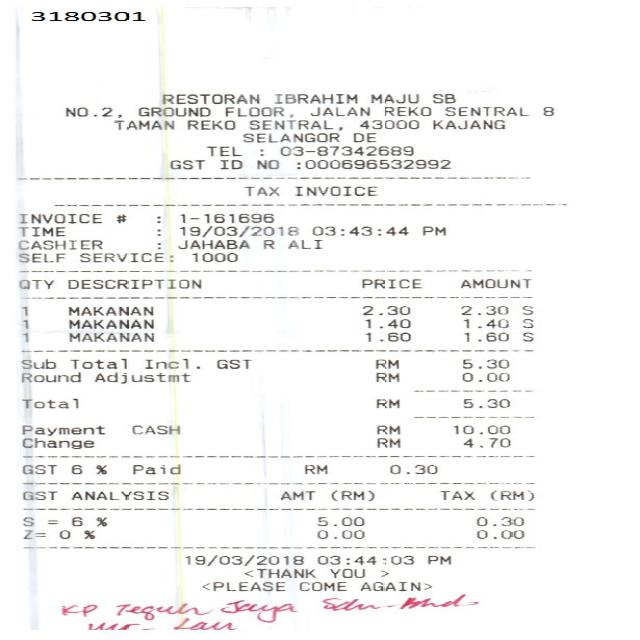text: (178, 224, 297, 237), (296, 159, 448, 169), (65, 278, 198, 289), (183, 554, 302, 566), (278, 146, 412, 155), (159, 93, 257, 104), (29, 11, 144, 20), (178, 212, 272, 223), (94, 372, 188, 383), (293, 185, 378, 197), (68, 490, 166, 500), (78, 252, 172, 262), (248, 120, 340, 130), (22, 424, 103, 435), (315, 555, 412, 564), (311, 226, 407, 235), (242, 133, 337, 142), (21, 437, 92, 449), (67, 305, 152, 315), (443, 106, 527, 116), (17, 239, 101, 249), (68, 319, 152, 329), (18, 213, 100, 223), (23, 516, 105, 526), (201, 581, 283, 591), (462, 331, 533, 342), (358, 580, 427, 591), (68, 332, 152, 341), (223, 106, 291, 117), (273, 94, 356, 103), (175, 239, 248, 249), (459, 305, 531, 315), (459, 278, 530, 288), (462, 318, 532, 328), (62, 106, 120, 118), (136, 107, 208, 116), (430, 120, 502, 129), (242, 568, 314, 577), (112, 120, 172, 130), (309, 106, 368, 116), (20, 372, 79, 382), (452, 424, 509, 434), (69, 358, 125, 368), (142, 358, 198, 368), (20, 398, 76, 408), (130, 463, 179, 474), (360, 279, 419, 288), (461, 397, 508, 408), (298, 580, 344, 591), (330, 489, 372, 501), (129, 424, 178, 434), (382, 106, 430, 116), (16, 226, 64, 236), (16, 252, 64, 262), (358, 120, 417, 128), (361, 305, 408, 315), (461, 372, 508, 382), (363, 318, 409, 328), (461, 358, 507, 368), (387, 464, 436, 473), (370, 94, 418, 103), (185, 120, 233, 129), (474, 516, 522, 525), (474, 529, 522, 538), (489, 490, 532, 500), (190, 252, 237, 261), (462, 438, 509, 447), (315, 516, 362, 525), (315, 529, 362, 538), (241, 186, 279, 197), (363, 332, 409, 341), (69, 463, 105, 474), (327, 567, 363, 578), (18, 278, 52, 289), (21, 463, 55, 474), (204, 146, 240, 156), (167, 159, 203, 169), (57, 529, 93, 539), (286, 239, 321, 249), (215, 358, 250, 368), (21, 490, 56, 500), (20, 358, 54, 368), (438, 490, 473, 499), (279, 490, 313, 499), (303, 463, 326, 474), (420, 225, 444, 235), (352, 132, 374, 142), (218, 159, 240, 169), (255, 159, 277, 169), (374, 358, 396, 368), (376, 372, 398, 382), (376, 398, 398, 408), (376, 424, 398, 434), (22, 529, 44, 539), (431, 94, 454, 103), (376, 438, 398, 447), (426, 555, 448, 564), (261, 239, 273, 249), (541, 106, 552, 115), (114, 214, 125, 222), (19, 305, 26, 315), (20, 331, 26, 342), (20, 318, 26, 328), (257, 148, 261, 156)
